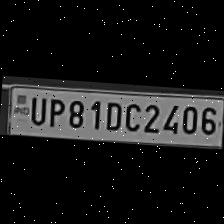0: (178, 100, 198, 133)
1: (84, 96, 104, 130)
2: (140, 98, 160, 133)
4: (158, 99, 180, 133)
6: (196, 101, 218, 134)
8: (63, 94, 87, 128)
C: (122, 96, 142, 130)
D: (100, 97, 124, 131)
P: (44, 92, 64, 128)
U: (26, 92, 46, 125)
